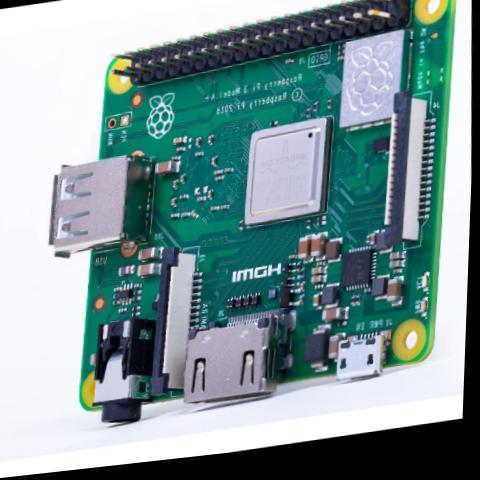Raspberry-Pi-3-Model-A-: (28, 0, 477, 444)
